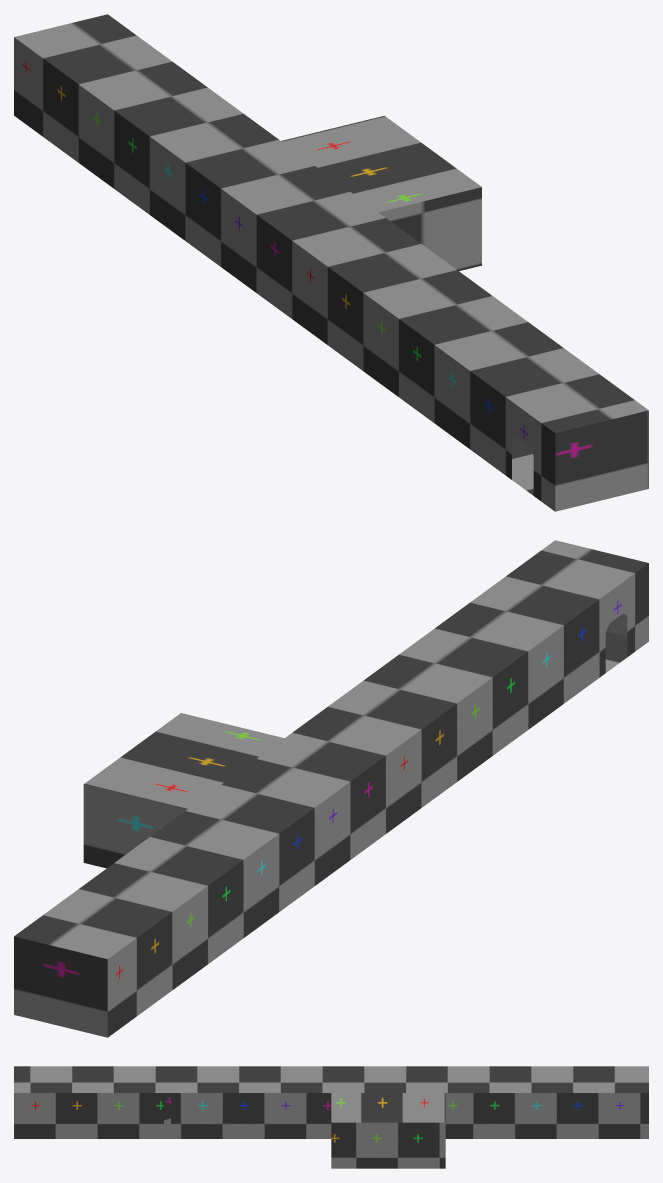
File: scenario_prototype_exterior_floor_01_left.fbx
The picture shows the model from 3 angles, top to bottom: view 1: azimuth 30°, elevation 25°; view 2: azimuth 150°, elevation 25°; view 3: azimuth 270°, elevation 25°; orthographic projection. The views are drawn at different scales.
Parts seen in each view (by area): view 1: exterior_floor01_left; view 2: exterior_floor01_left; view 3: exterior_floor01_left.
Boxes of the visible parts, bbox=[...] form: exterior_floor01_left: bbox=[14, 14, 648, 511]; exterior_floor01_left: bbox=[14, 540, 648, 1037]; exterior_floor01_left: bbox=[14, 1066, 648, 1168].
Size of the model in its own units: 1052 by 400 by 4999.
